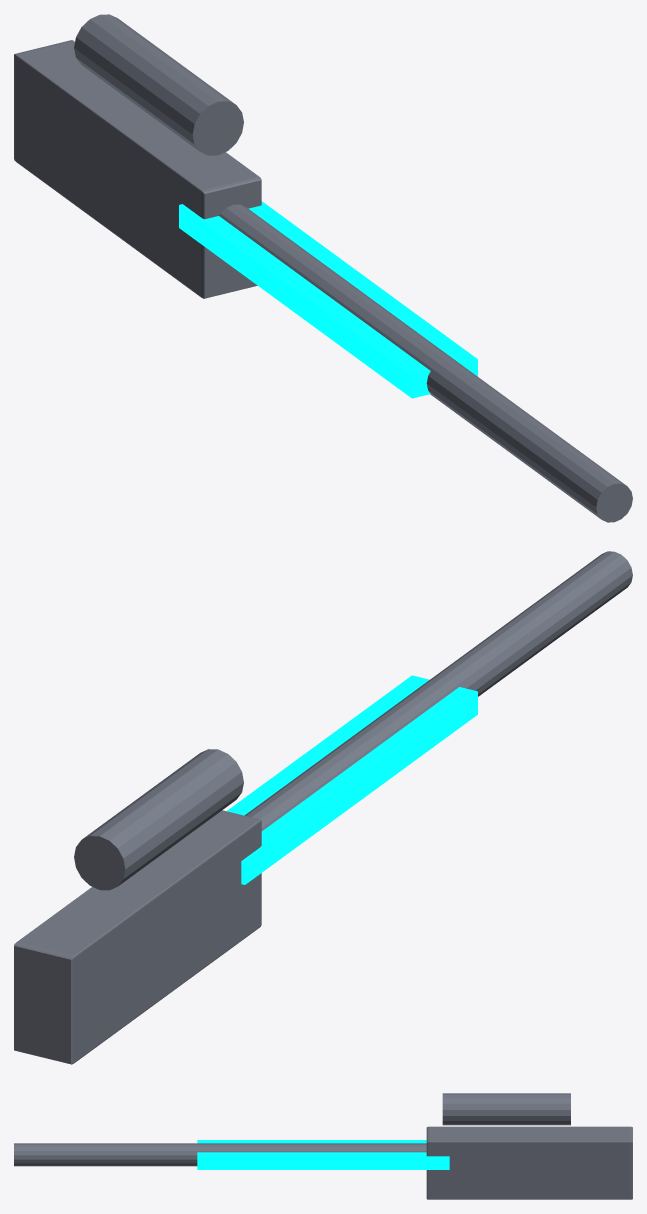
File: weapon_sniper_rifle.glb
3 views of the same model, one above another, from view 1: azimuth 30°, elevation 25°; view 2: azimuth 150°, elevation 25°; view 3: azimuth 270°, elevation 25° (orthographic). The views are drawn at different scales.
Visible parts, largest first — view 1: RifleBody, RifleBarrel, EnergyRail, RifleScope; view 2: RifleBody, RifleBarrel, EnergyRail, RifleScope; view 3: RifleBody, RifleBarrel, EnergyRail, RifleScope.
Boxes of the visible parts, x1,y1,x2,y2 form: RifleBody: [14, 40, 261, 298]; RifleBarrel: [219, 204, 632, 522]; EnergyRail: [179, 201, 477, 398]; RifleScope: [74, 14, 243, 155]; RifleBody: [14, 810, 261, 1064]; RifleBarrel: [245, 551, 632, 830]; EnergyRail: [227, 675, 477, 884]; RifleScope: [74, 749, 243, 890]; RifleBody: [426, 1126, 632, 1199]; RifleBarrel: [14, 1143, 426, 1166]; EnergyRail: [197, 1140, 449, 1169]; RifleScope: [442, 1093, 570, 1125].
Bounding box in the file's own units: 0.09 × 0.235 × 1.35.
